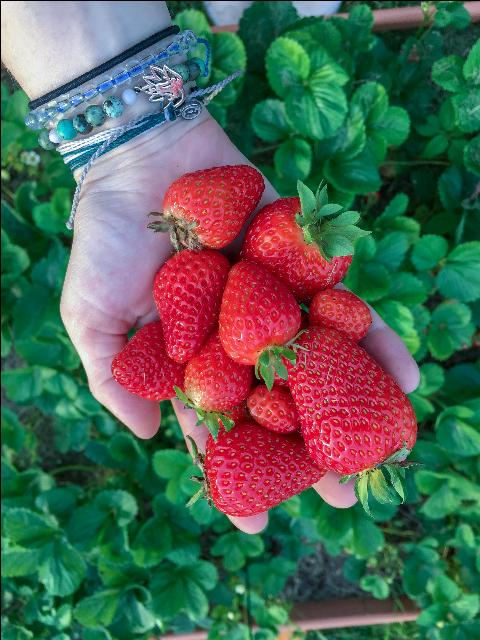Strawberries: (288, 326, 418, 479), (200, 428, 321, 516), (246, 198, 352, 294), (220, 262, 302, 368), (160, 165, 262, 248), (150, 252, 226, 358), (110, 322, 184, 402), (187, 332, 245, 412), (311, 288, 370, 342), (245, 389, 295, 435)
